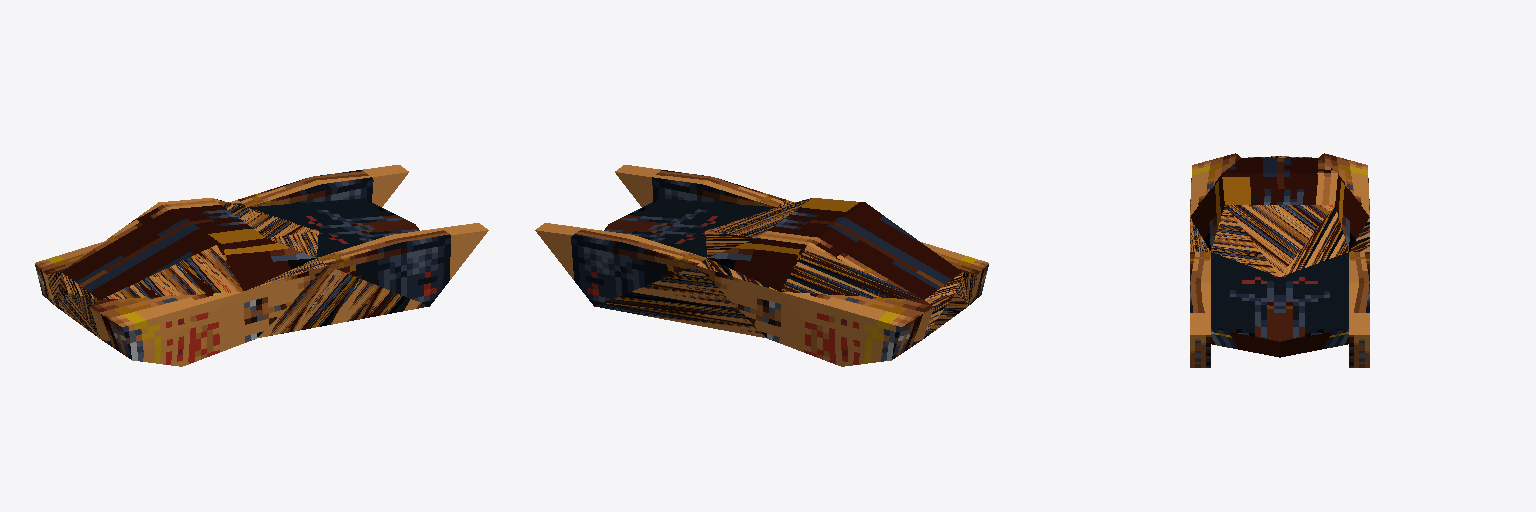
The picture shows the model from 3 angles: view 1: azimuth 30°, elevation 25°; view 2: azimuth 150°, elevation 25°; view 3: azimuth 270°, elevation 25°; orthographic projection.
Bounding box in the file's own units: 4.65 × 1.16 × 1.92.
1 materials, 1 textured.